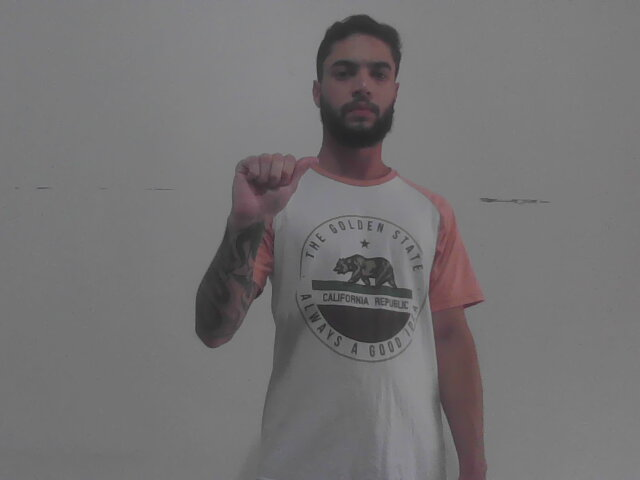a: (231, 149, 317, 229)
